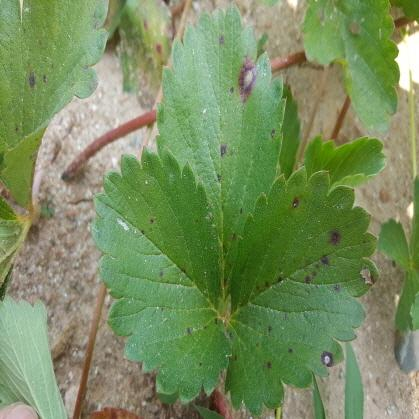Leaf Spot: (224, 165, 379, 415), (89, 146, 231, 407), (155, 2, 286, 284), (0, 0, 111, 209)
